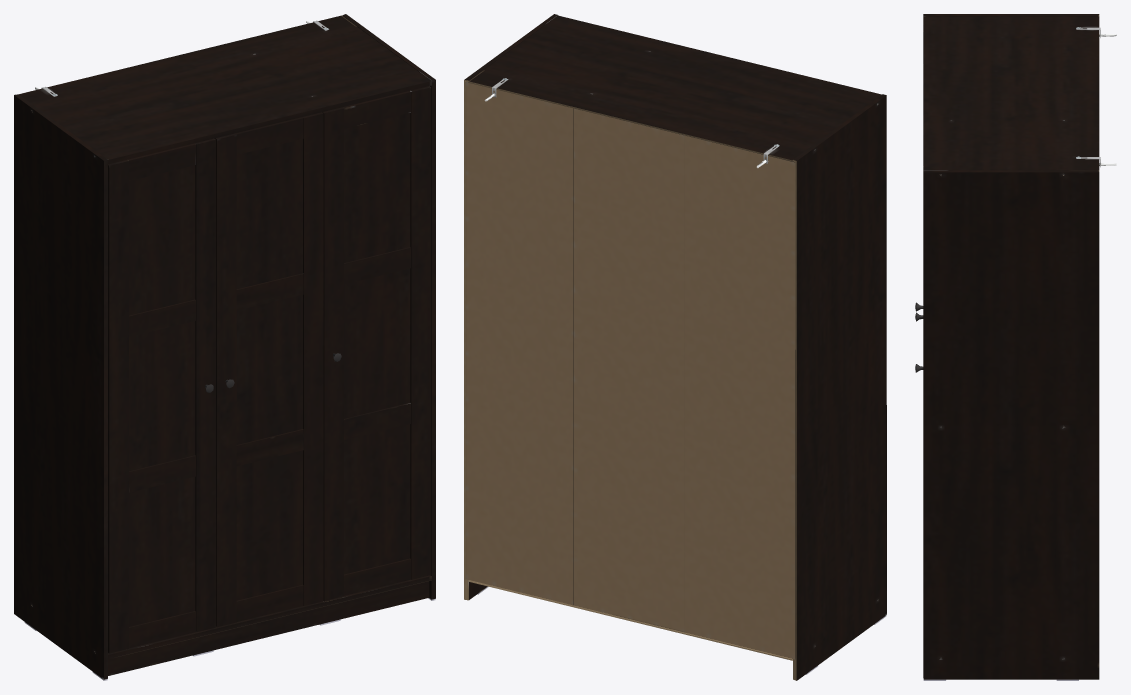
The model's file is 05 - RAKKESTAD Wardrobe with 3 doors - black-brown 117x176 cm.glb.
The picture shows the model from 3 angles, left to right: view 1: azimuth 30°, elevation 25°; view 2: azimuth 150°, elevation 25°; view 3: azimuth 270°, elevation 25°; orthographic projection. The views are drawn at different scales.
Visible parts, largest first — view 1: 70453762-RAKKESTAD001; view 2: 70453762-RAKKESTAD001; view 3: 70453762-RAKKESTAD001.
Part boxes in pixels (x1,y1,x2,y2): 70453762-RAKKESTAD001: (14,14,435,680); 70453762-RAKKESTAD001: (464,14,886,680); 70453762-RAKKESTAD001: (915,14,1116,680).
Bounding box in the file's own units: 1.17 × 1.76 × 0.6308.
1 material, 1 textured.
